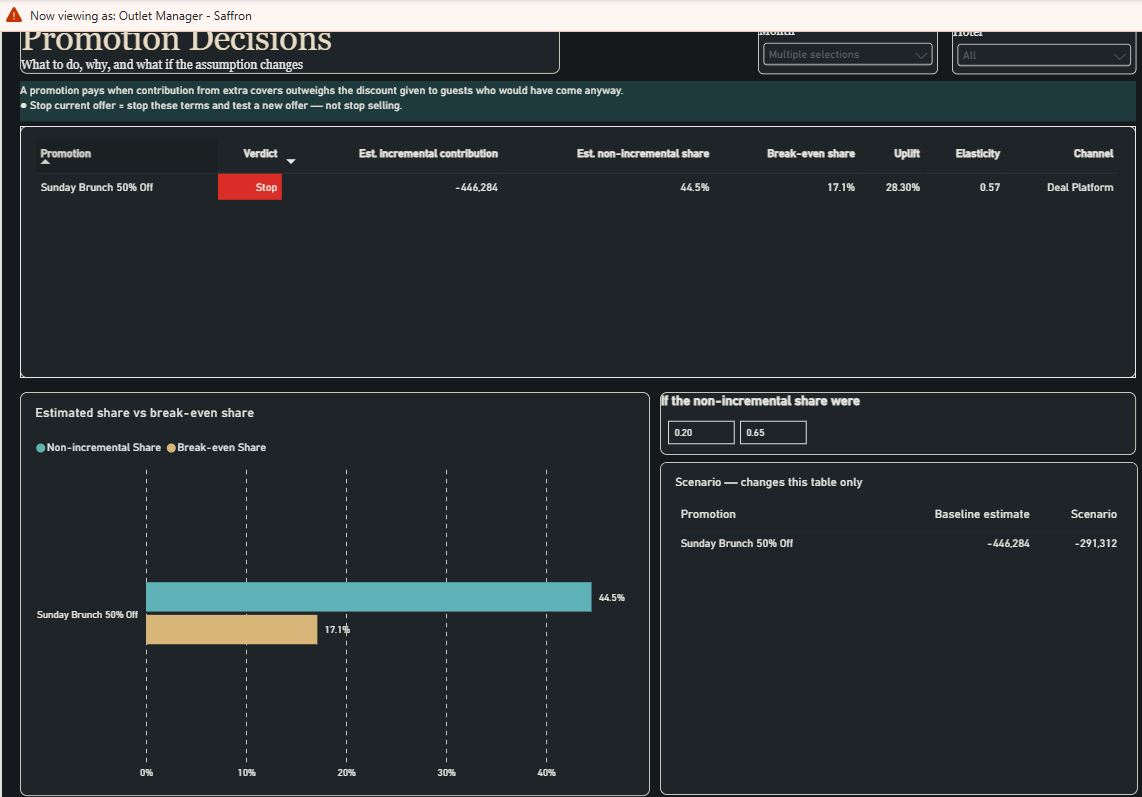

The dashboard page shown, as its layout file describes it:
{"tool":"powerbi","page":{"name":"Promotion Decisions","canvas":[1300,980],"ordinal":1},"visuals":[{"type":"textbox","box":[20,10,600,62],"z":0},{"type":"slicer","title":"Month","fields":{"Values":["DimDate.MonthYear"]},"box":[840,15.6,200,56.7],"z":1000},{"type":"slicer","title":"Hotel","fields":{"Values":["DimHotel.HotelName"]},"box":[1055,16.2,205,56.2],"z":2000},{"type":"textbox","box":[20,80,1240,45],"z":3000},{"type":"tableEx","fields":{"Values":["DimPromo.PromoName","Promo decision.Promo Verdict","Promo decision.Incremental Contribution","Promo decision.Non-incremental Share","Promo decision.Break-even Share","Promo decision.Promo Uplift %","Promo decision.Discount Elasticity","vw_promo_uplift.ChannelName"]},"box":[20,130,1240,280],"z":4000},{"type":"clusteredBarChart","title":"Estimated share vs break-even share","fields":{"Category":["DimPromo.PromoName"],"Y":["Promo decision.Non-incremental Share","Promo decision.Break-even Share"]},"box":[20,425,700,448.8],"z":5000},{"type":"slicer","title":"If the non-incremental share were","fields":{"Values":["Cannibalisation Assumption.Cannibalisation Assumption"]},"box":[731.2,425,528.8,70],"z":6000},{"type":"tableEx","title":"Scenario — changes this table only","fields":{"Values":["DimPromo.PromoName","Promo decision.Incremental Contribution","Promo decision.Incremental Contribution (What-if)"]},"box":[731.2,503.8,531.2,370],"z":7000}]}

Visuals, with their boxes on the page's 1300x980 design canvas (x1, y1, x2, y2). These are canvas units, not pixel positions in the 1142x797 screenshot, which may show the page scaled, cropped or inside an application window:
textbox: bbox=[20, 10, 620, 72]
"Month" slicer: bbox=[840, 16, 1040, 72]
"Hotel" slicer: bbox=[1055, 16, 1260, 72]
textbox: bbox=[20, 80, 1260, 125]
tableEx - DimPromo.PromoName x Promo decision.Promo Verdict: bbox=[20, 130, 1260, 410]
"Estimated share vs break-even share" clusteredBarChart: bbox=[20, 425, 720, 874]
"If the non-incremental share were" slicer: bbox=[731, 425, 1260, 495]
"Scenario — changes this table only" tableEx: bbox=[731, 504, 1262, 874]
